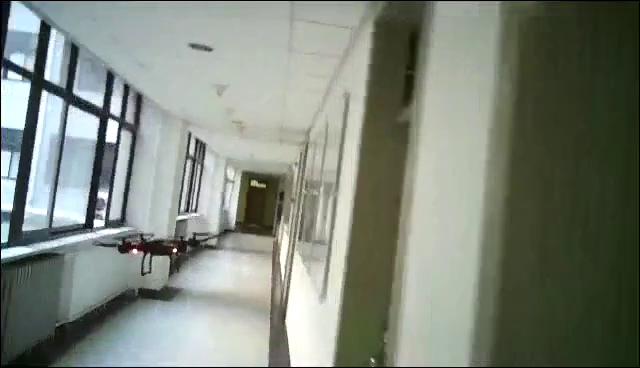drone: (90, 231, 219, 276)
